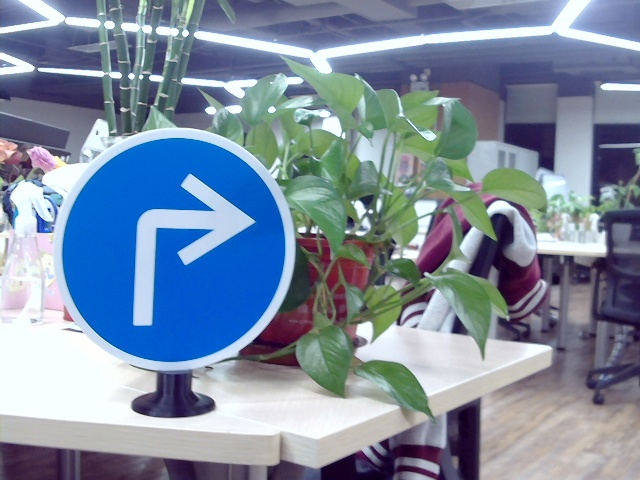turn_right: (121, 181, 253, 321)
